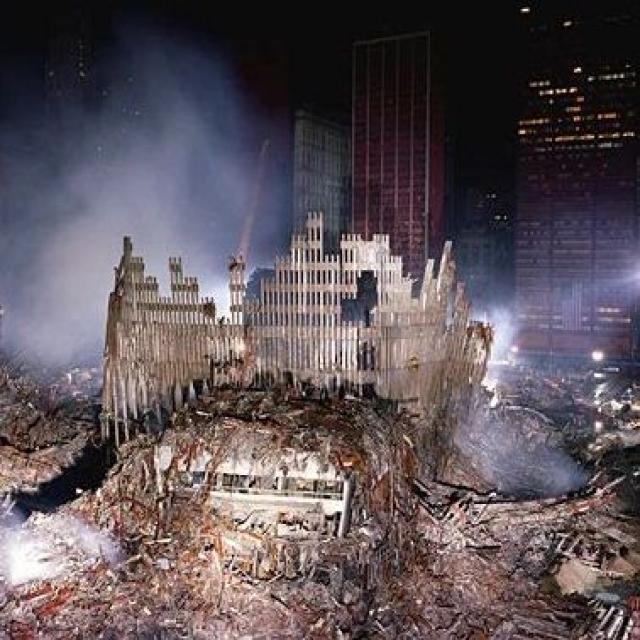collapsed_building: (113, 264, 459, 596)
